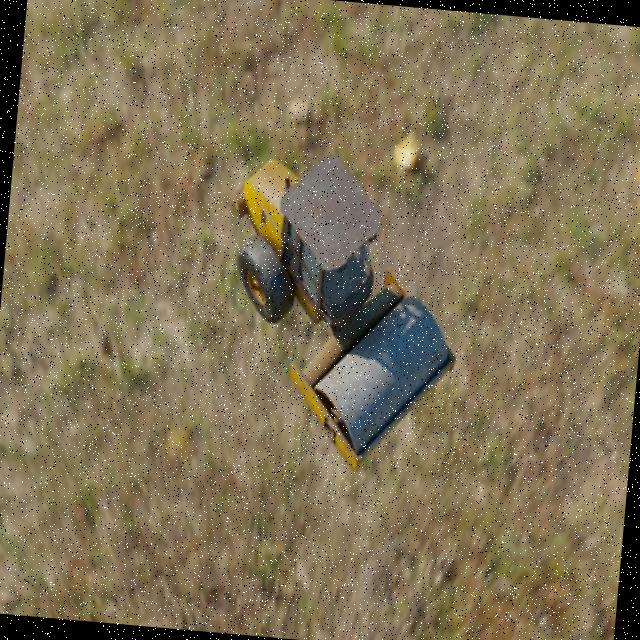Roller: (210, 143, 472, 481)
